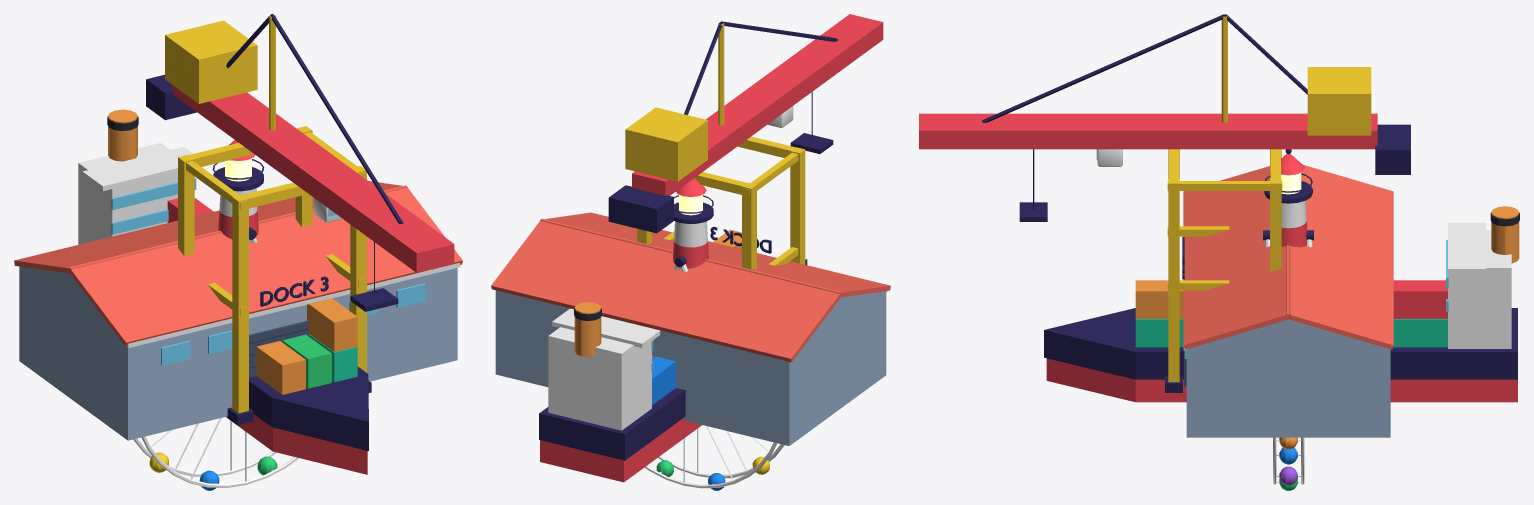
The model's file is harbour.glb.
3 renders of one model, left to right at view 1: azimuth 30°, elevation 25°; view 2: azimuth 150°, elevation 25°; view 3: azimuth 270°, elevation 25°, orthographic. The views are drawn at different scales.
Parts seen in each view (by area): view 1: warehouse, crane, cargo_ship, ferris_rim, lighthouse; view 2: warehouse, crane, cargo_ship, lighthouse, ferris_rim; view 3: warehouse, crane, cargo_ship, lighthouse, ferris_rim.
Boxes of the visible parts, x1,y1,x2,y2 form: warehouse: (14,181,462,440); crane: (146,14,454,425); cargo_ship: (78,109,368,474); ferris_rim: (133,418,298,490); lighthouse: (212,140,264,239); warehouse: (491,212,890,445); crane: (608,14,883,269); cargo_ship: (539,229,807,482); lighthouse: (673,178,713,268); ferris_rim: (645,426,784,490); warehouse: (1182,165,1393,437); crane: (919,14,1410,392); cargo_ship: (1044,206,1519,402); lighthouse: (1264,149,1312,247); ferris_rim: (1273,437,1304,490).
Size of the model in its own units: 28.6 by 40.08 by 47.15.
